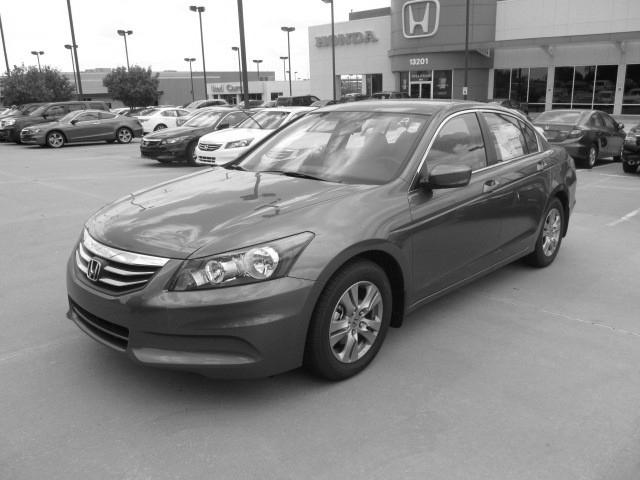car: (67, 101, 577, 384)
